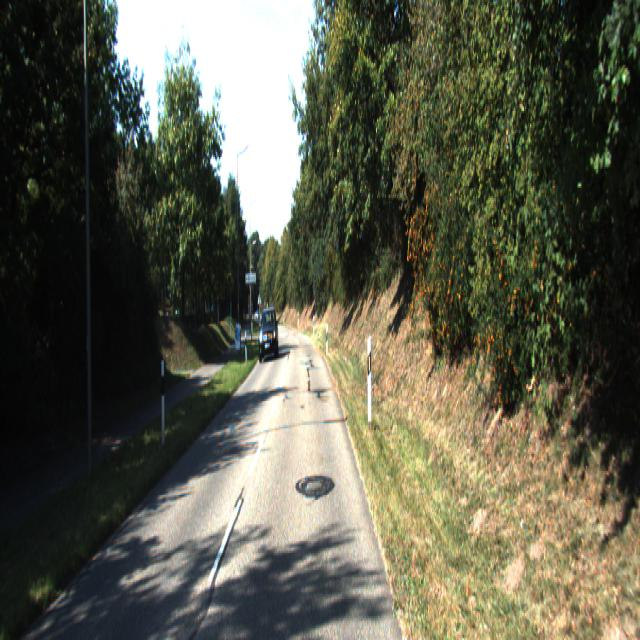Car: (258, 304, 278, 362)
